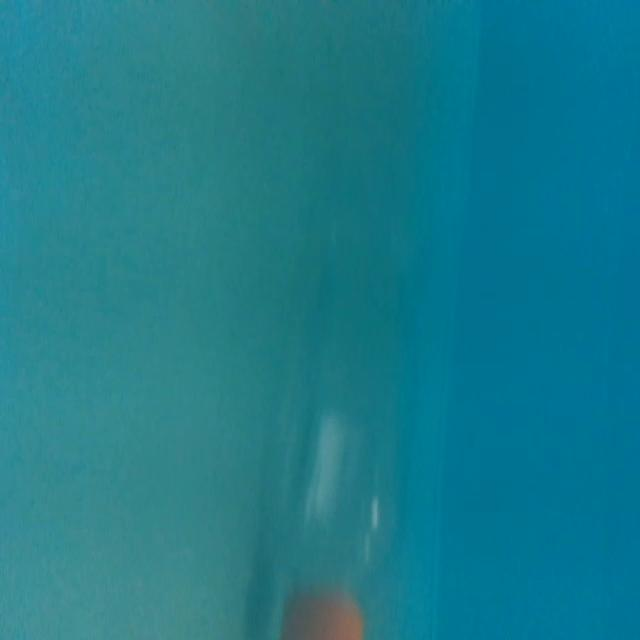plastic bottle: (279, 201, 425, 640)
